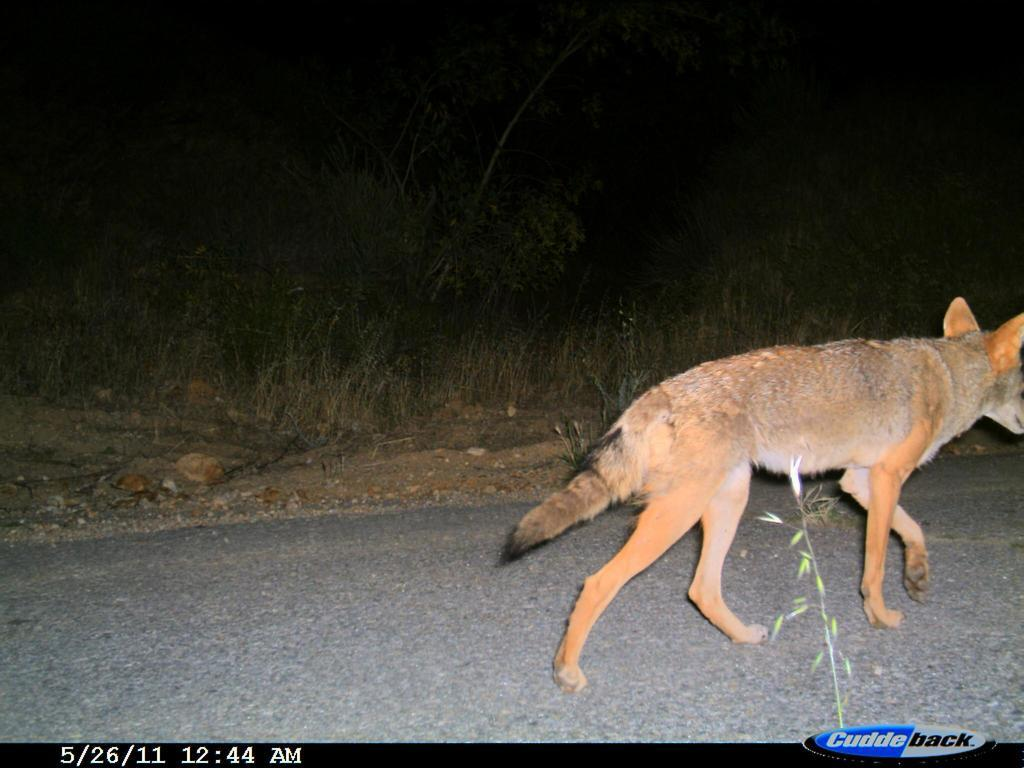coyote: (501, 292, 1022, 694)
